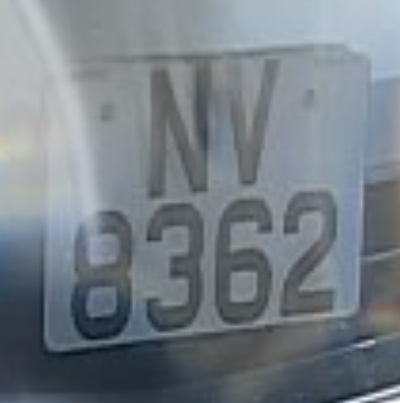2: (274, 181, 354, 331)
3: (128, 198, 215, 341)
6: (205, 191, 285, 335)
8: (50, 188, 141, 350)
N: (133, 50, 224, 205)
V: (213, 49, 289, 197)
